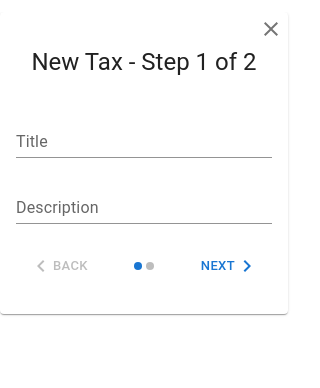
NewTaxForm › renders NewTaxForm component
Expected: the button named "close" is shown, [254,12,288,46]
Expected: the text "New Tax - Step 1 of 2" is shown, [16,46,272,78]
Note: Go to the next step by clicking the "Next" button
Click the button "Next" at (230, 266), box [196,250,264,282]
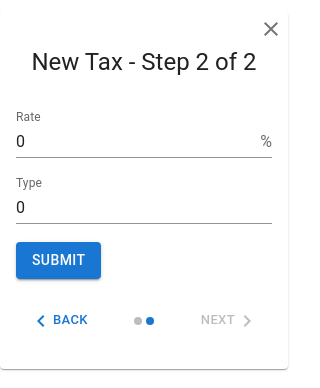
Expected: the number field labelled "Rate" is shown, [16,126,252,158]
Result: the button "Submit" is shown at [16,242,101,278]
